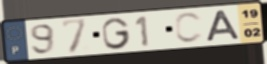1: (134, 15, 151, 48)
7: (60, 17, 89, 56)
9: (29, 23, 58, 55)
A: (205, 9, 242, 43)
C: (173, 11, 206, 45)
G: (101, 16, 133, 51)
